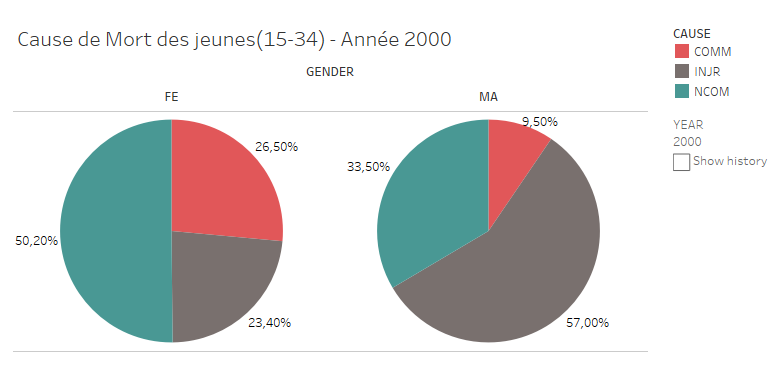

The page's visual inventory and layout, read from the dashboard file:
{"tool":"tableau","page":{"name":"HEALTH","canvas":[1000,800],"ordinal":5},"visuals":[{"type":"worksheet","title":"COD","mark":"Pie","cols":["GENDER"],"box":[13,18,652,349]},{"type":"legend","title":"COD","param":"[msolap.1ifi4mp15fzyf614xw0c20uex6ge].[DIM CAUSE].[CAUSE].[none:CAUSE:nk]","box":[672,23,140,78]},{"type":"currpage","title":"COD","box":[673,115,160,102]}]}

Visuals, with their boxes on the page's 1000x800 design canvas (x1, y1, x2, y2). These are canvas units, not pixel positions in the 783x368 screenshot, which may show the page scaled, cropped or inside an application window:
"COD" worksheet (Pie marks): <region>13, 18, 665, 367</region>
"COD" legend: <region>672, 23, 812, 101</region>
"COD" currpage: <region>673, 115, 833, 217</region>
